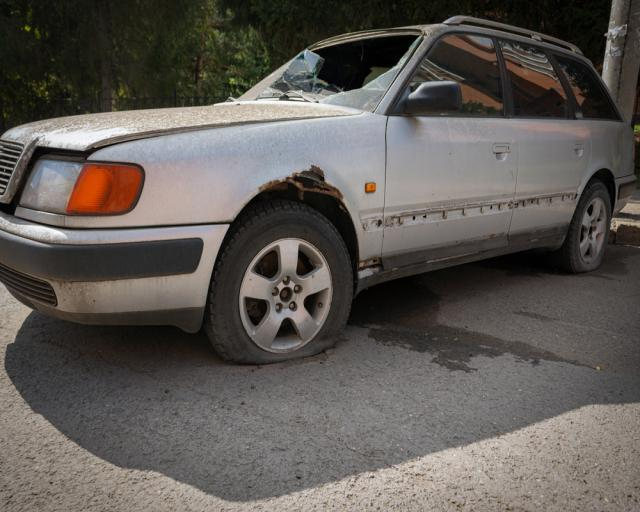crack: (291, 170, 334, 193)
glass shatter: (257, 29, 422, 110)
tire flat: (203, 201, 353, 363), (557, 182, 611, 275)
